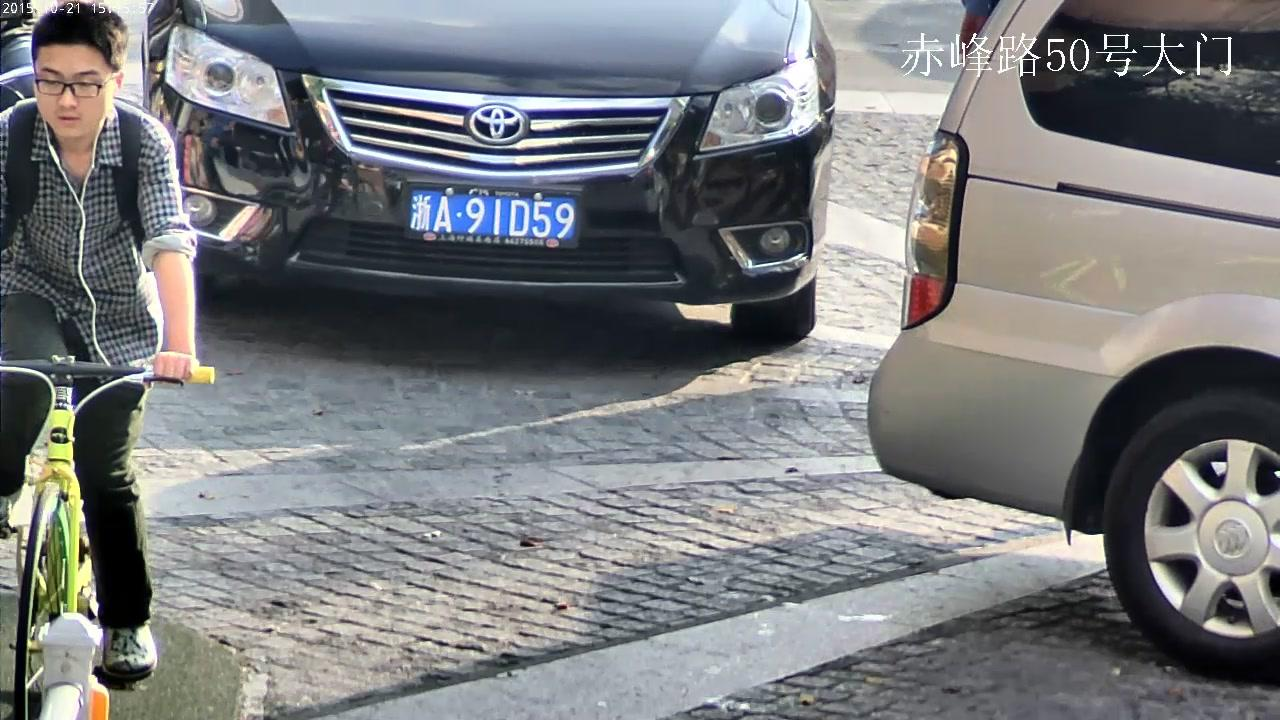person: (0, 0, 217, 720), (0, 0, 198, 693)
